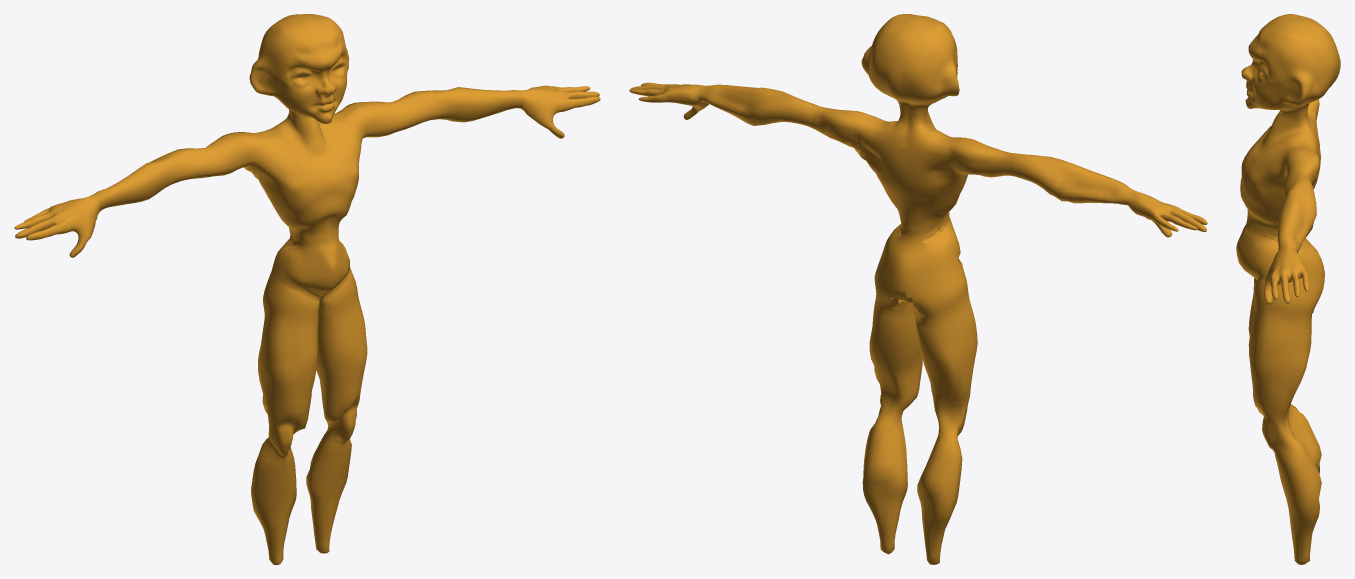
File: player_two_scaled.fbx
3 renders of one model, left to right at view 1: azimuth 30°, elevation 25°; view 2: azimuth 150°, elevation 25°; view 3: azimuth 270°, elevation 25°, orthographic. The views are drawn at different scales.
Visible parts, largest first — view 1: polySurface1; view 2: polySurface1; view 3: polySurface1.
Boxes of the visible parts, bbox=[...] form: polySurface1: bbox=[14, 14, 600, 564]; polySurface1: bbox=[629, 14, 1207, 564]; polySurface1: bbox=[1236, 14, 1340, 564].
Bounding box in the file's own units: 306 × 272 × 48.35.
